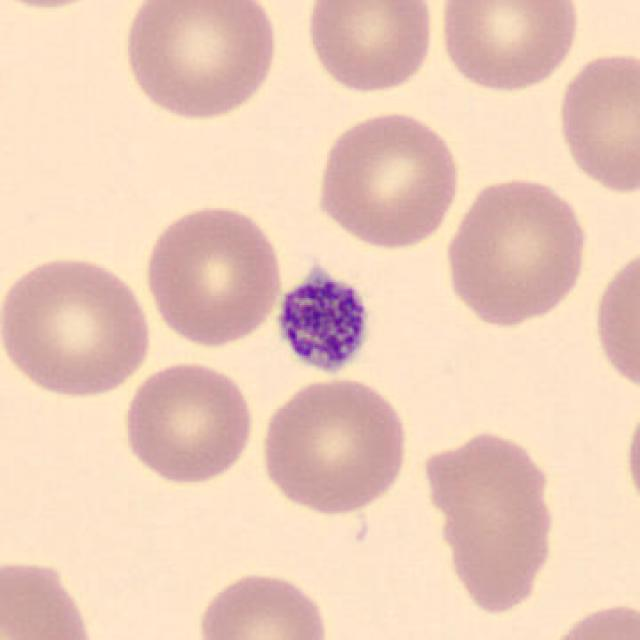Platelets: (270, 259, 375, 377)
RBC: (423, 426, 560, 614), (439, 171, 592, 330), (0, 250, 156, 400), (256, 372, 412, 518), (311, 106, 464, 252), (140, 199, 286, 351), (117, 0, 281, 125), (119, 358, 258, 487), (434, 0, 583, 95), (301, 0, 439, 97), (553, 46, 638, 196), (192, 566, 334, 640), (0, 552, 100, 640), (590, 238, 638, 402), (542, 597, 638, 640), (620, 390, 640, 522), (0, 0, 121, 14)
